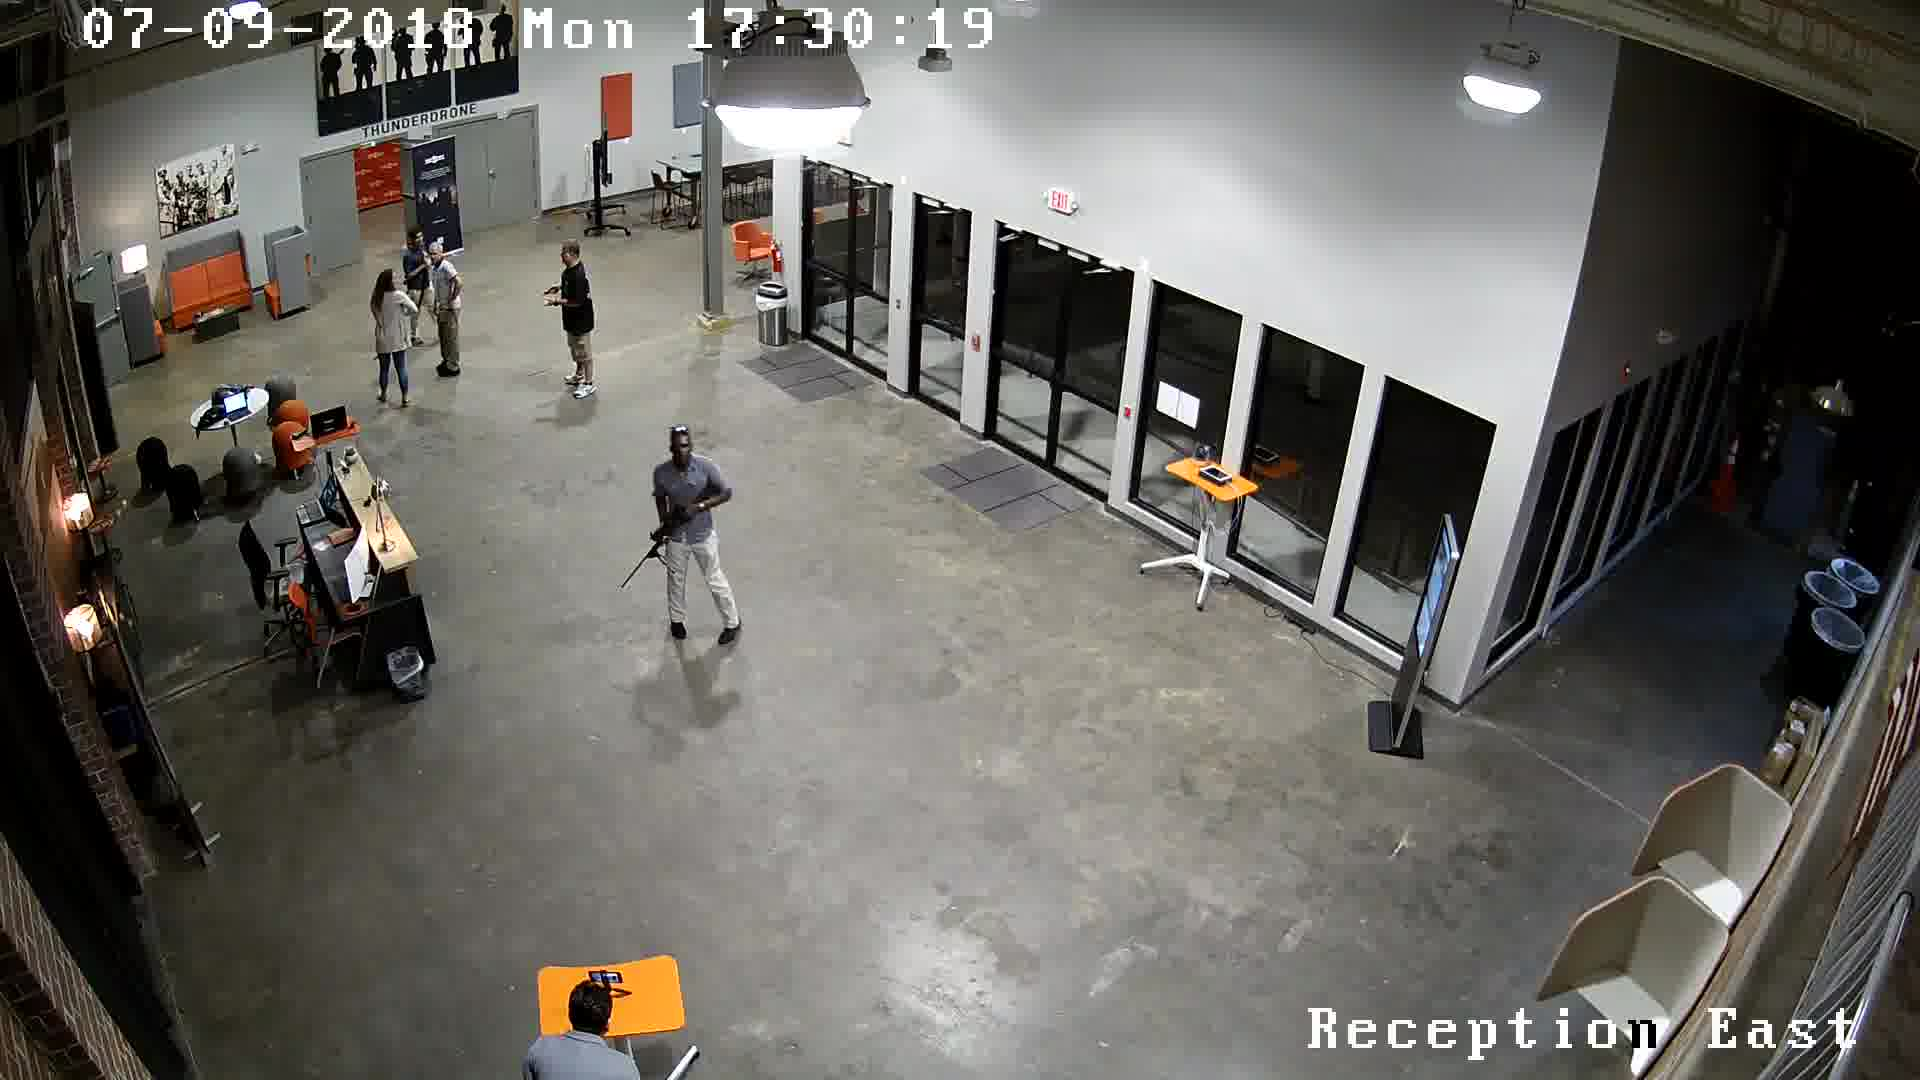pistol: (535, 276, 563, 299)
